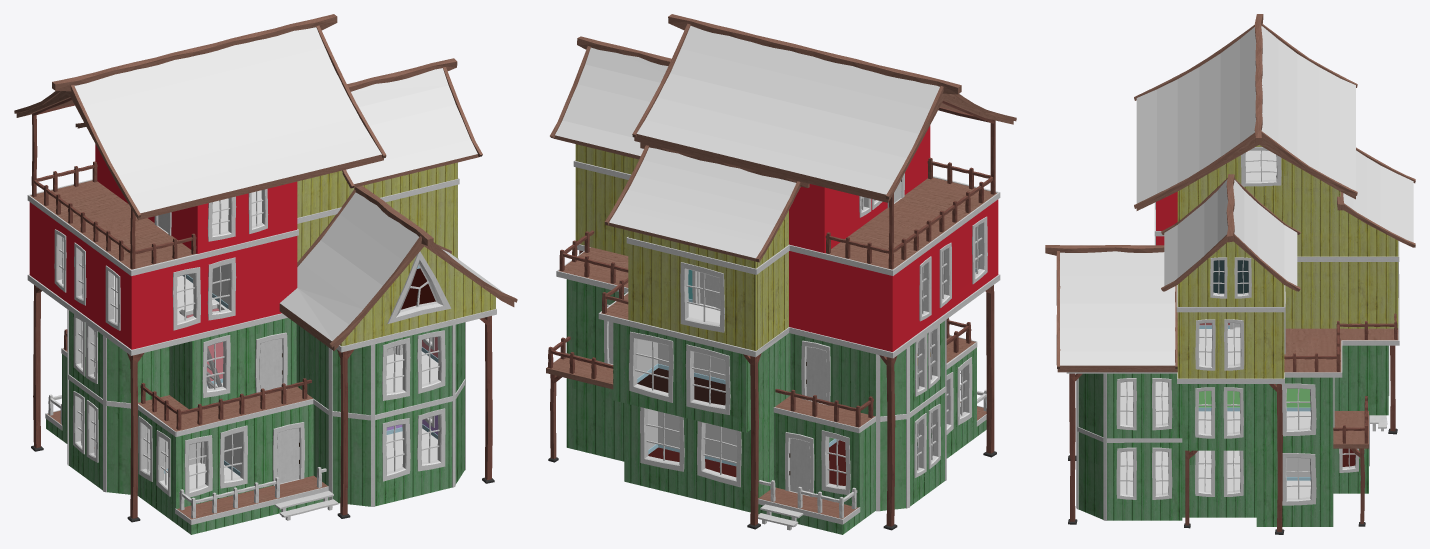
The model's file is CartoonHouse.fbx.
3 renders of one model, left to right at view 1: azimuth 30°, elevation 25°; view 2: azimuth 150°, elevation 25°; view 3: azimuth 270°, elevation 25°, orthographic. The views are drawn at different scales.
Parts seen in each view (by area): view 1: house, door.001, door.002; view 2: house, door.003, door.004; view 3: house.
Part boxes in pixels (x1,y1,x2,y2): house: [14, 14, 517, 534]; door.001: [277, 428, 299, 483]; door.002: [259, 338, 282, 391]; house: [546, 14, 1016, 534]; door.003: [789, 438, 810, 492]; door.004: [806, 347, 826, 400]; house: [1045, 14, 1415, 534].
Bounding box in the file's own units: 2810 × 2808 × 2595.
